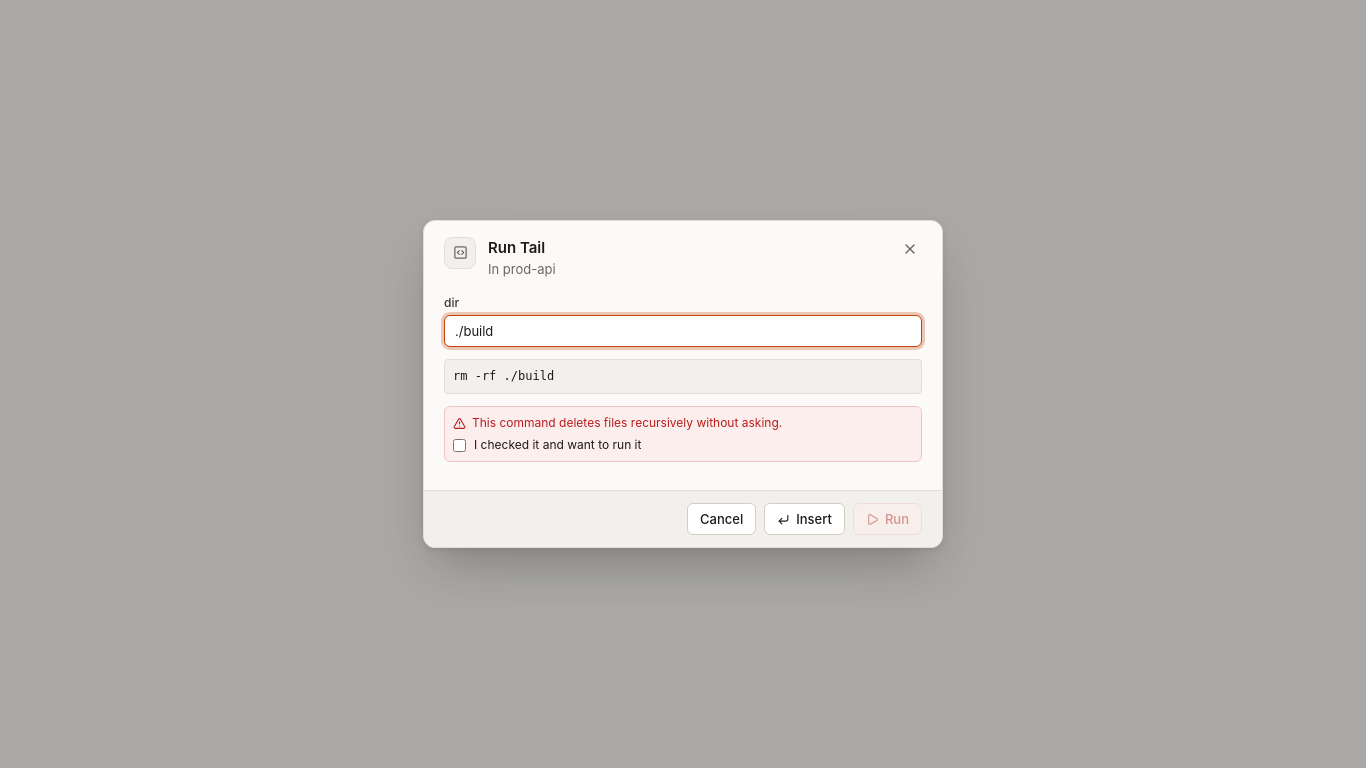
Test: SnippetRunDialog › asks again after the command changes
This screenshot has width=1366, height=768.
Expected: the message is shown, left=444, top=406, right=922, bottom=462
Click the checkbox labelled "I checked it and want to run it": (460, 446) left=453, top=439, right=466, bottom=452
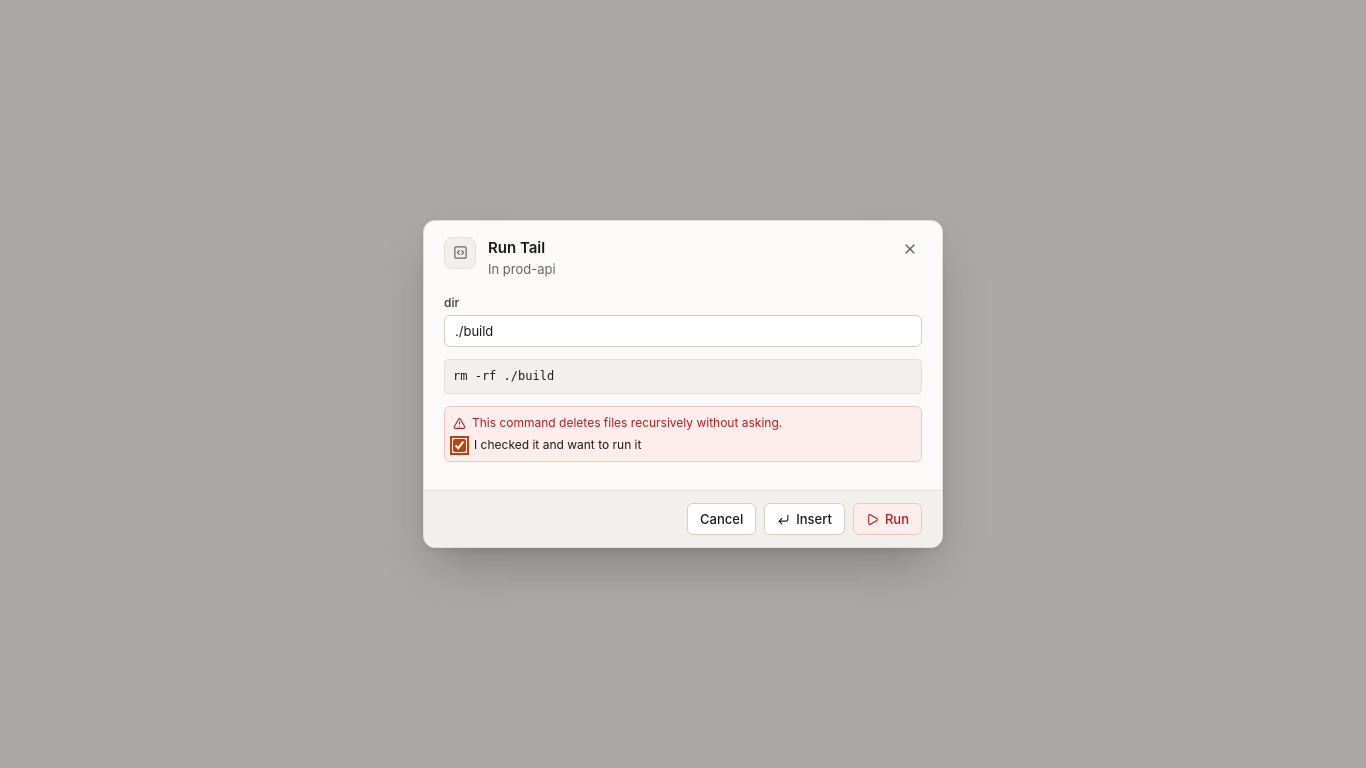
In the field labelled "dir": (683, 331) left=444, top=315, right=922, bottom=347, type "x"
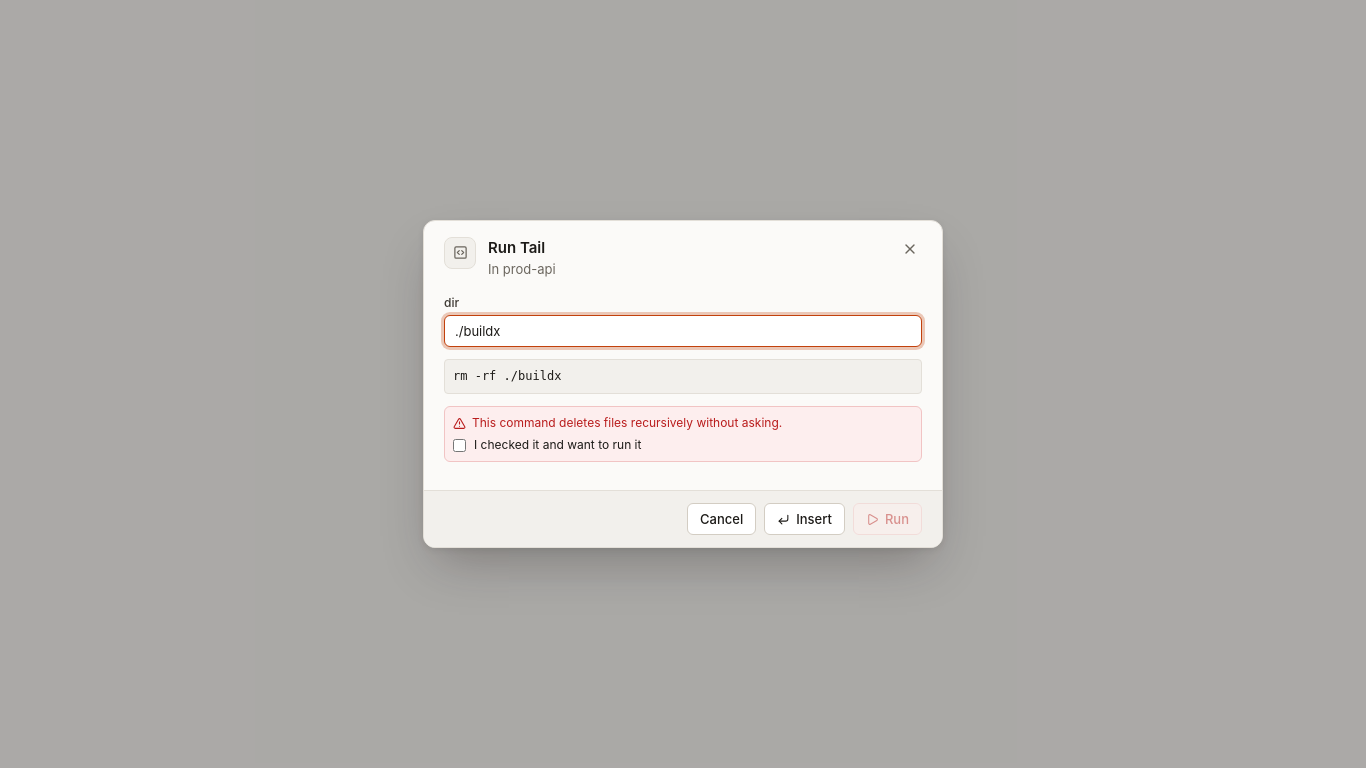
Expected: the checkbox labelled "I checked it and want to run it" is not checked, left=453, top=439, right=466, bottom=452
